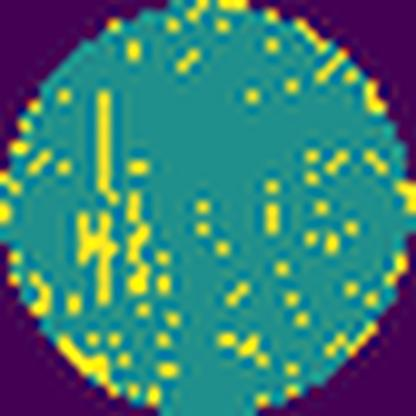Scratch: (75, 207, 125, 315), (91, 86, 122, 210), (122, 189, 154, 298)
